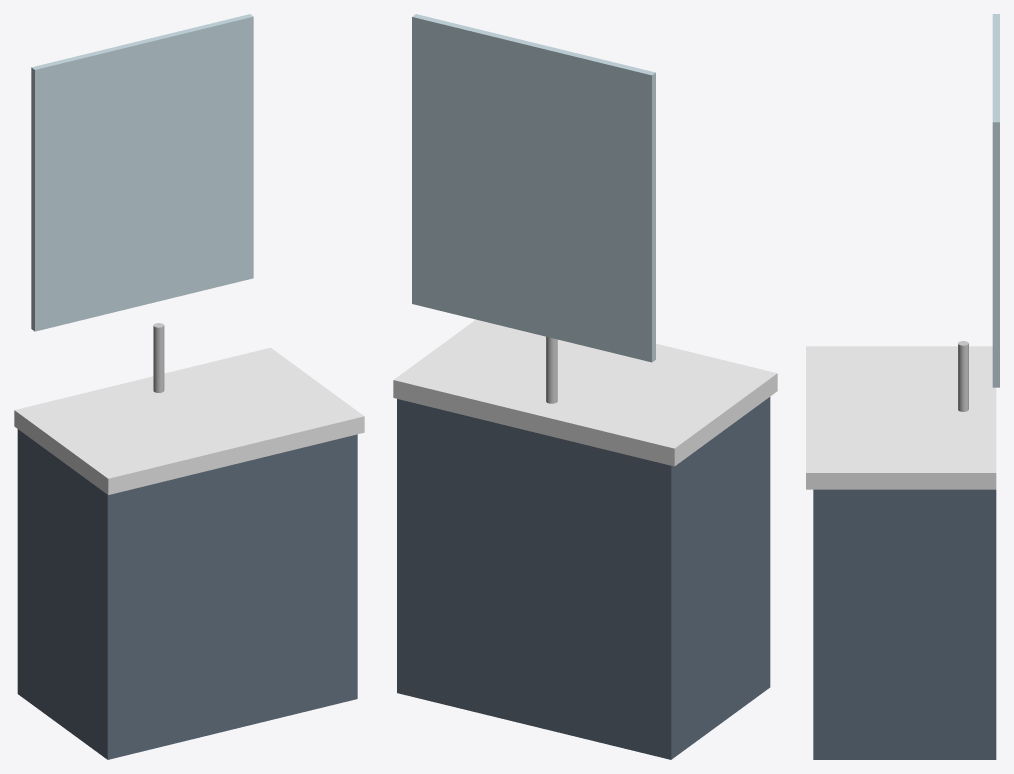
The model's file is vanity.glb.
The picture shows the model from 3 angles, left to right: view 1: azimuth 30°, elevation 25°; view 2: azimuth 150°, elevation 25°; view 3: azimuth 270°, elevation 25°; orthographic projection. The views are drawn at different scales.
Visible parts, largest first — view 1: vanity; view 2: vanity; view 3: vanity.
Boxes of the visible parts, left/top/right/bottom form: vanity: left=14, top=14, right=364, bottom=759; vanity: left=393, top=14, right=777, bottom=759; vanity: left=806, top=14, right=999, bottom=759.
Bounding box in the file's own units: 0.82 × 1.9 × 0.53.
